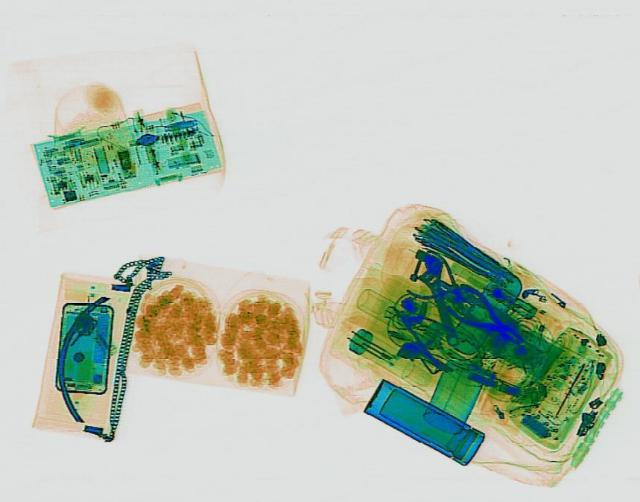Pliers: (433, 280, 541, 353), (388, 246, 492, 314)
Wrench: (407, 247, 468, 347)
